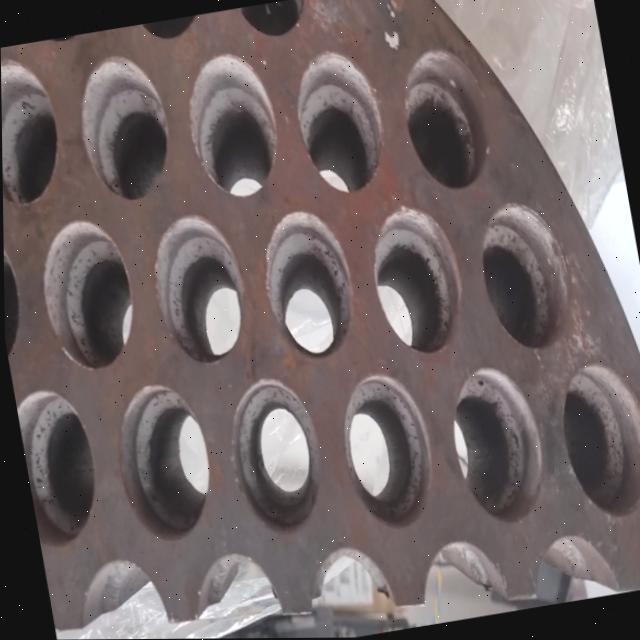Hole: (105, 377, 220, 547), (440, 360, 553, 532), (220, 371, 331, 541), (330, 366, 441, 535), (29, 213, 143, 377), (143, 207, 255, 372), (251, 204, 361, 367), (362, 199, 471, 362), (68, 48, 178, 207), (470, 195, 577, 357), (177, 46, 286, 204), (286, 44, 393, 201), (393, 43, 494, 198), (12, 381, 105, 549), (550, 356, 640, 525), (1, 51, 68, 213), (229, 0, 318, 47), (3, 218, 29, 370), (130, 12, 214, 47), (23, 28, 112, 50)
